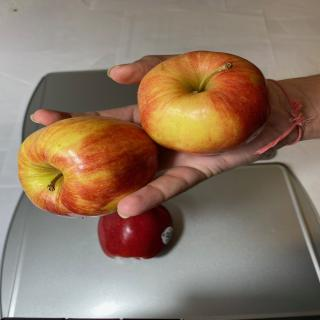Apple: (17, 116, 159, 218), (137, 50, 271, 156), (98, 204, 174, 260)
